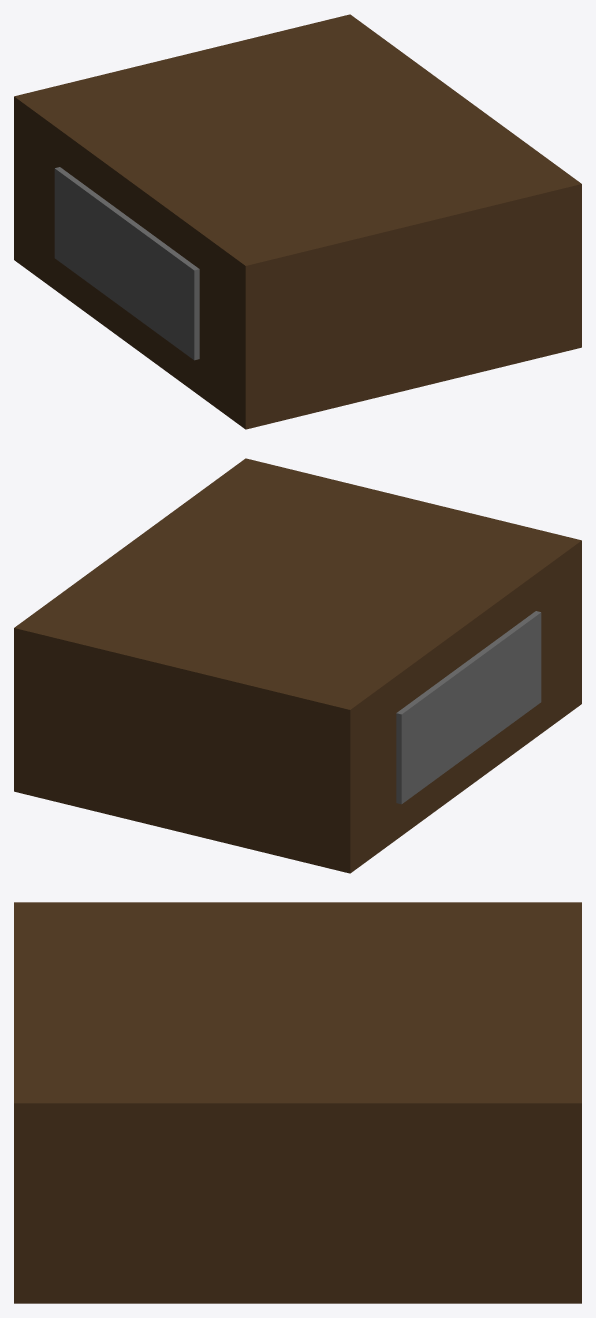
The model's file is bar V1 export 1.fbx.
3 renders of one model, top to bottom at view 1: azimuth 30°, elevation 25°; view 2: azimuth 150°, elevation 25°; view 3: azimuth 270°, elevation 25°, orthographic. The views are drawn at different scales.
Visible parts, largest first — view 1: pCube1, pCube3; view 2: pCube1, pCube3; view 3: pCube1.
Part boxes in pixels (x1,y1,x2,y2): pCube1: (14,14,581,429); pCube3: (54,167,199,360); pCube1: (14,458,581,873); pCube3: (396,611,541,804); pCube1: (14,902,581,1303).
Size of the model in its own units: 62.44 by 29.27 by 73.35.
